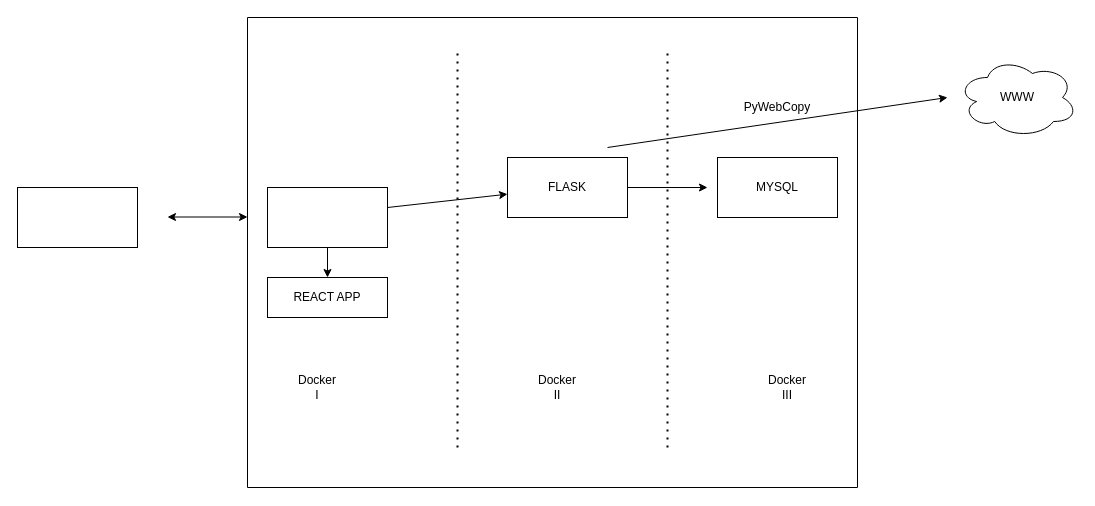
Some shapes in this 1095 by 506 pixel diagram are drawn without their labels. The shapes that lost their labels are listed below. From the top down, each one's box as (x1, y1, x2, y2) in pixels, then its label:
(16, 186, 138, 248): Klient
(266, 186, 388, 248): NGINX
